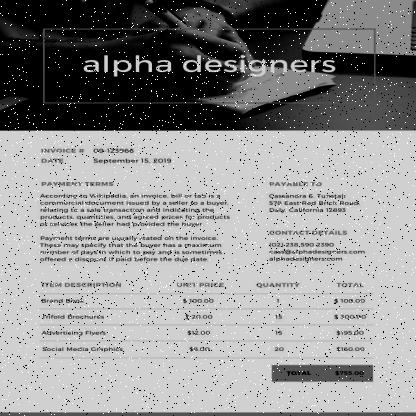Paragraph: (37, 178, 233, 265), (73, 48, 349, 84), (266, 226, 370, 264), (263, 177, 364, 216), (38, 144, 174, 166), (273, 366, 372, 382)
Table: (36, 276, 378, 358)
